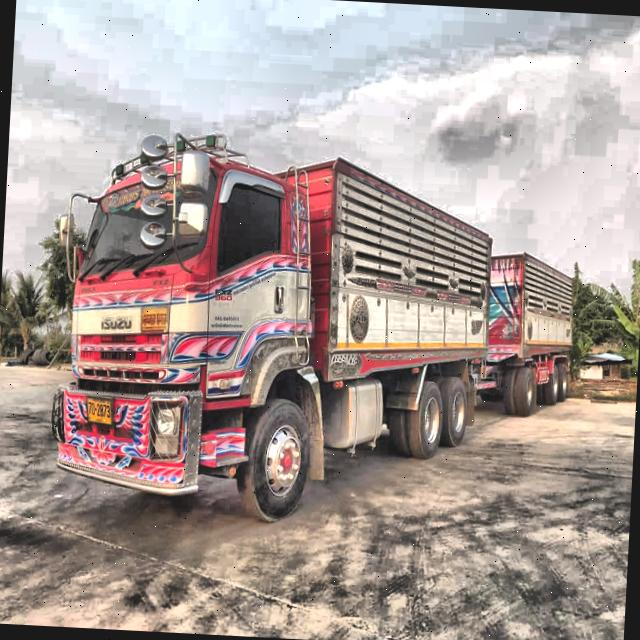trailer: (35, 116, 598, 578)
